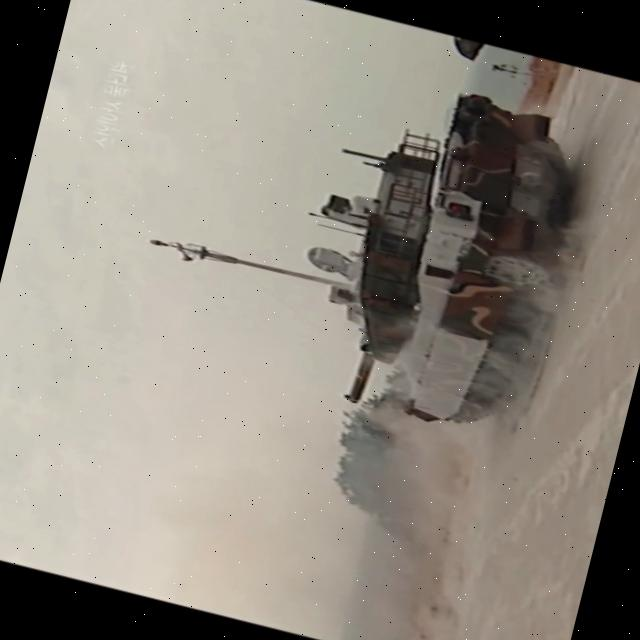korea tank: (274, 61, 610, 446)
